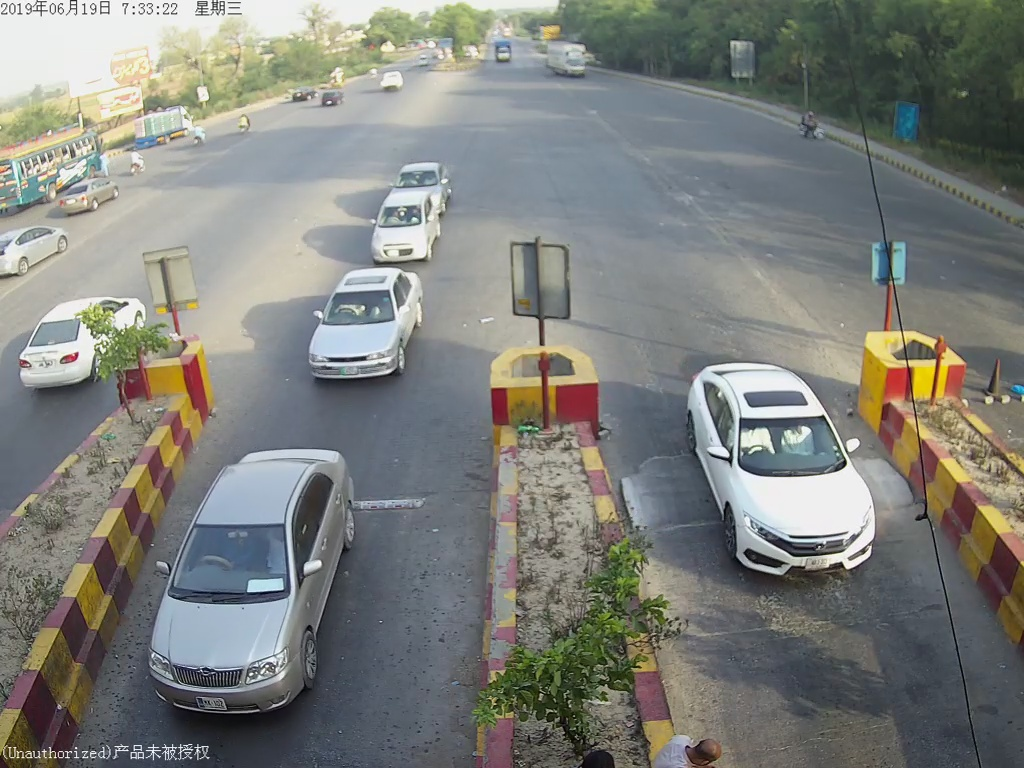Cat-1: (134, 447, 373, 715), (676, 359, 890, 596), (288, 269, 436, 388)
